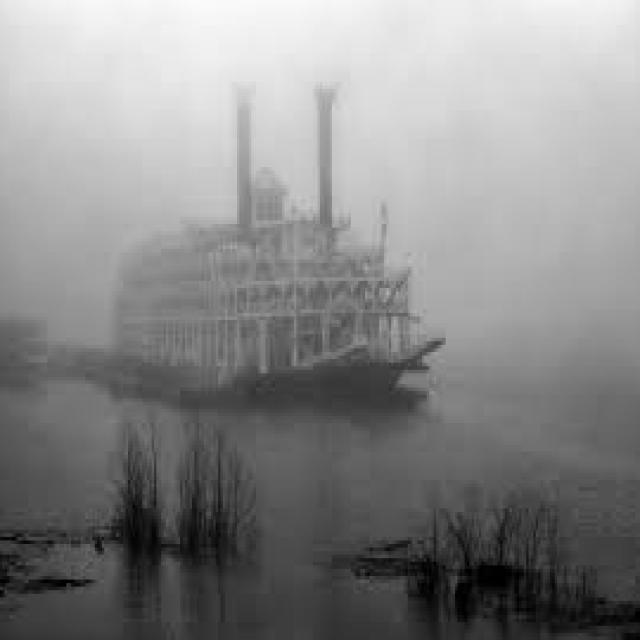passenger ship: (97, 153, 429, 383)
